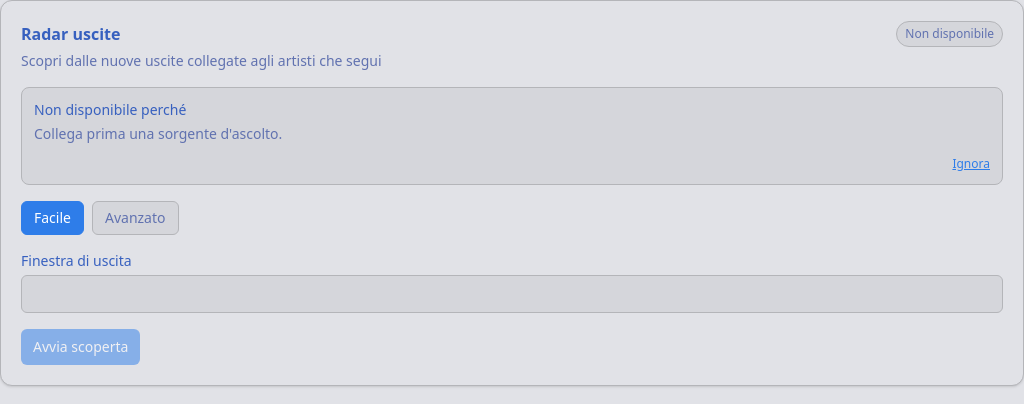
DiscoveryModeCard i18n › translates aliased field keys and known availability reasons
Expected: the heading "Radar uscite" is shown, [21,22,120,46]
Expected: the text "Finestra di uscita" is shown, [21,251,132,270]
Click the button "Ignora" at point(971, 164), box [952,156,990,172]
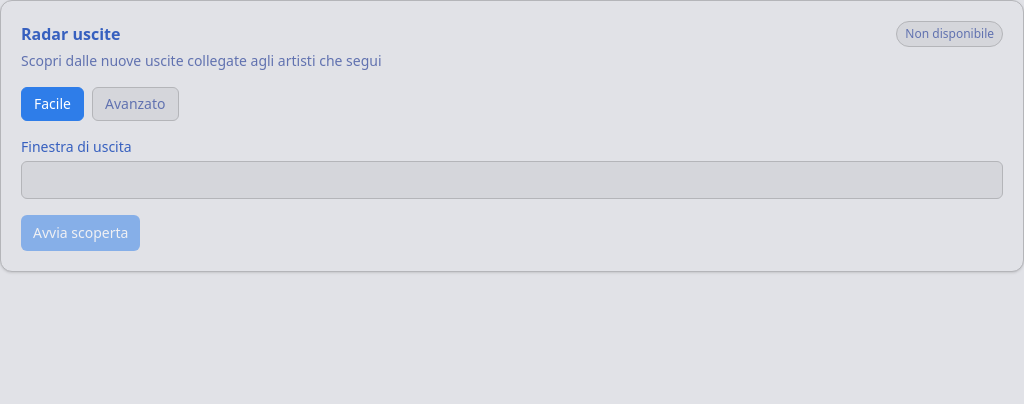
Expected: the text "Collega prima una sorgente d'ascolto." is gone
